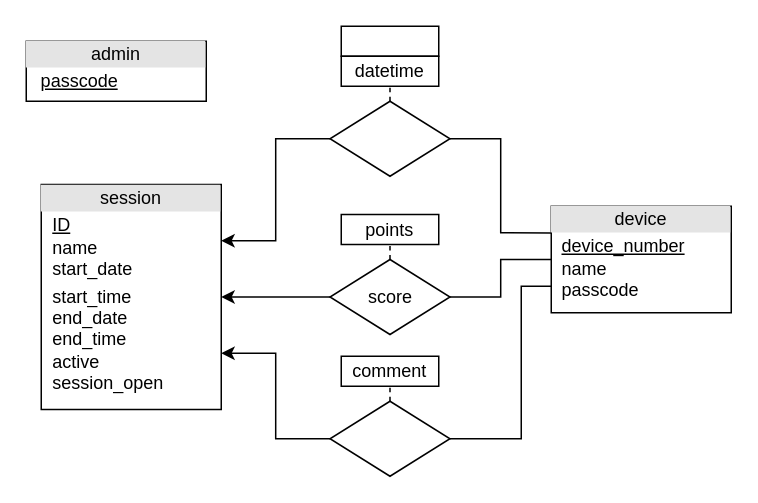
The diagram is 758 pixels wide and 503 high, and some of its shapes have lost their labels. The shapes that lost their labels are listed below. From the top down, each one's box as (x1, y1, x2, y2) in pixels, then its label:
(340, 25, 439, 56): action
(328, 100, 450, 176): event
(328, 400, 450, 476): feedback
